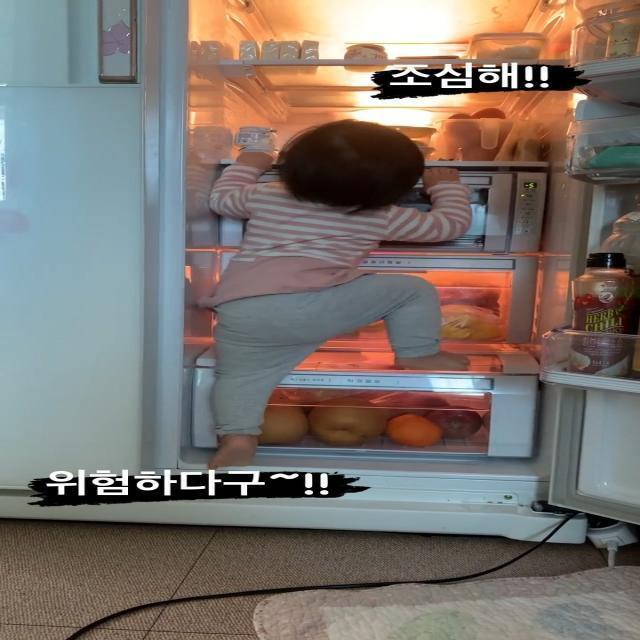child: (210, 124, 460, 468)
